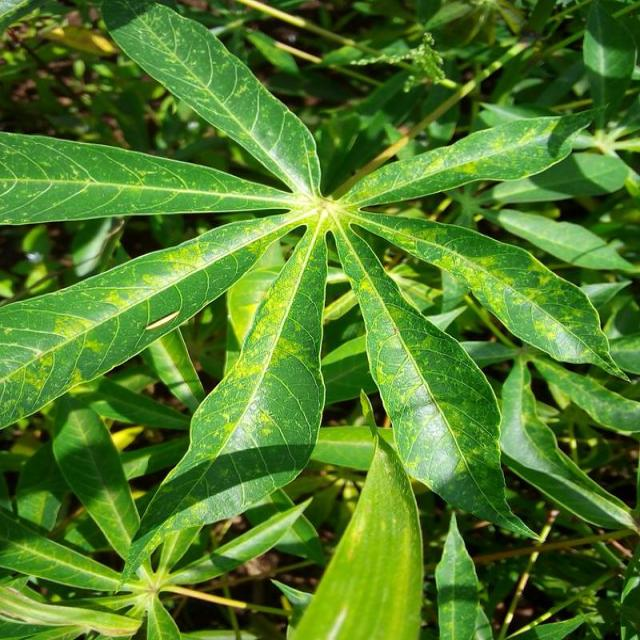cassava leaf: (2, 1, 634, 635), (120, 214, 330, 584)
